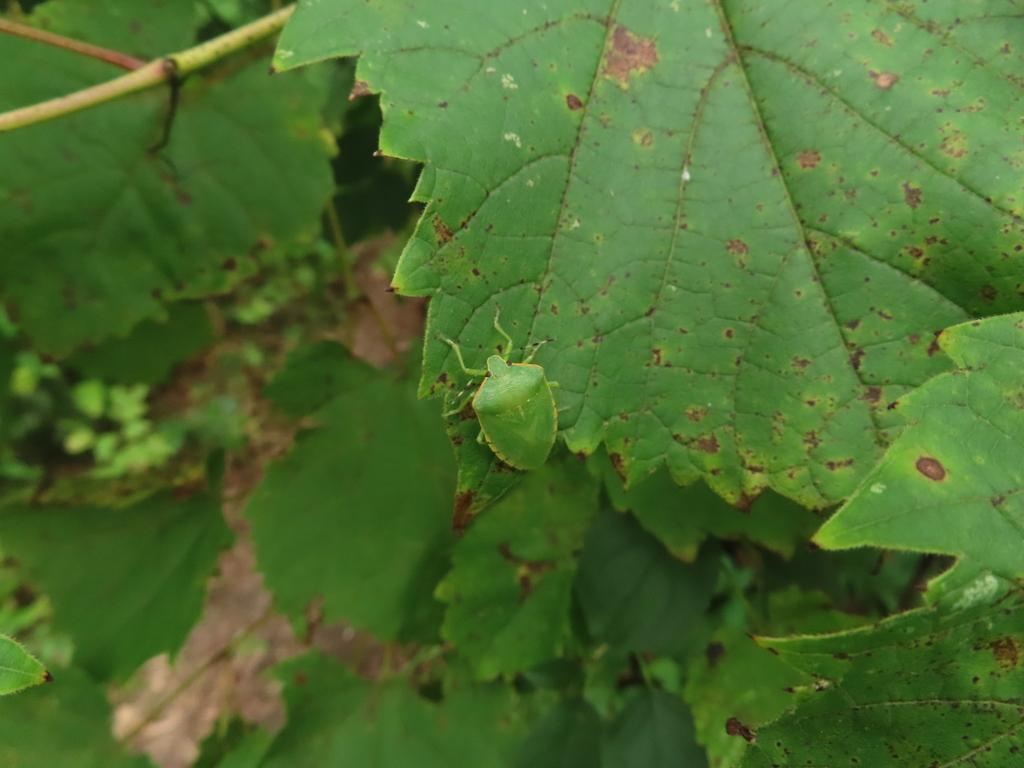stink_bugs: (398, 288, 621, 501)
